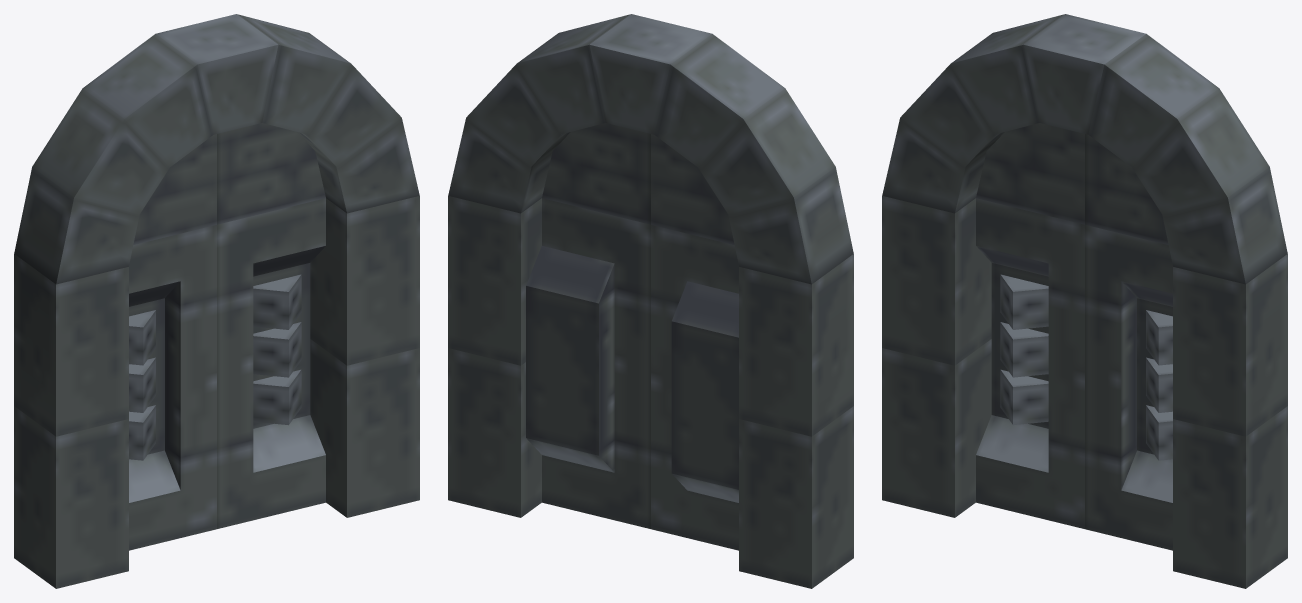
File: arch_inside_medium_end.fbx
3 renders of one model, left to right at view 1: azimuth 30°, elevation 25°; view 2: azimuth 150°, elevation 25°; view 3: azimuth 330°, elevation 25°, orthographic.
Parts seen in each view (by area): view 1: arch_inside_medium_end; view 2: arch_inside_medium_end; view 3: arch_inside_medium_end.
Part boxes in pixels (<box>): arch_inside_medium_end: <box>14,14,419,588</box>; arch_inside_medium_end: <box>448,14,853,588</box>; arch_inside_medium_end: <box>882,14,1287,588</box>.
Bounding box in the file's own units: 40 × 51.5 × 8.
